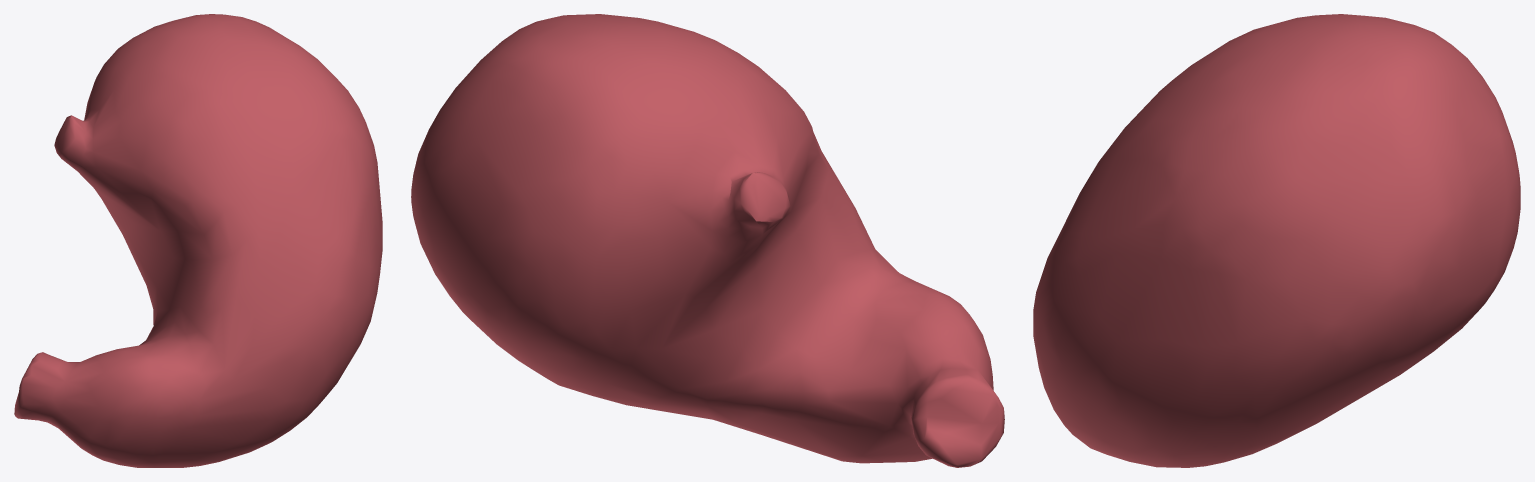
The model's file is oshqozon.glb.
3 renders of one model, left to right at view 1: azimuth 30°, elevation 25°; view 2: azimuth 150°, elevation 25°; view 3: azimuth 270°, elevation 25°, orthographic. The views are drawn at different scales.
Visible parts, largest first — view 1: oshqozon; view 2: oshqozon; view 3: oshqozon.
Boxes of the visible parts, x1=… form: oshqozon: x1=14, y1=14, x2=382, y2=467; oshqozon: x1=411, y1=14, x2=1004, y2=467; oshqozon: x1=1033, y1=14, x2=1520, y2=467.
Bounding box in the file's own units: 0.1343 × 0.117 × 0.1129.
